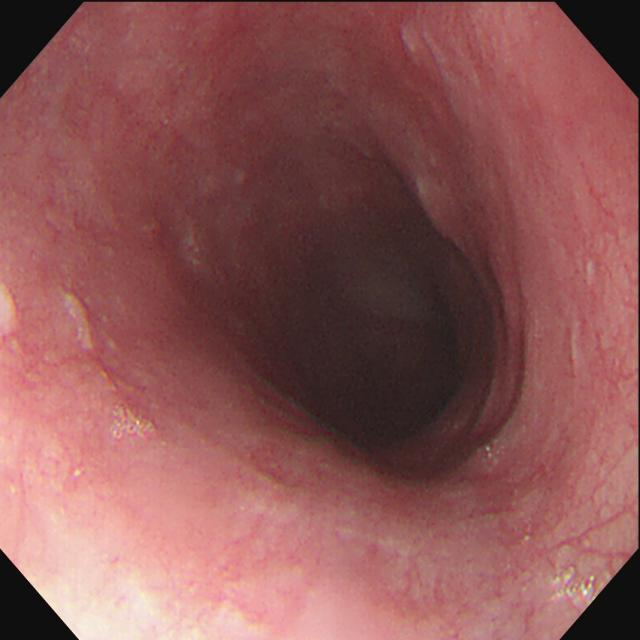E: (284, 263, 477, 460), (62, 288, 96, 352)
J: (2, 281, 21, 338)
T: (112, 405, 157, 441)
U: (550, 566, 597, 600)
